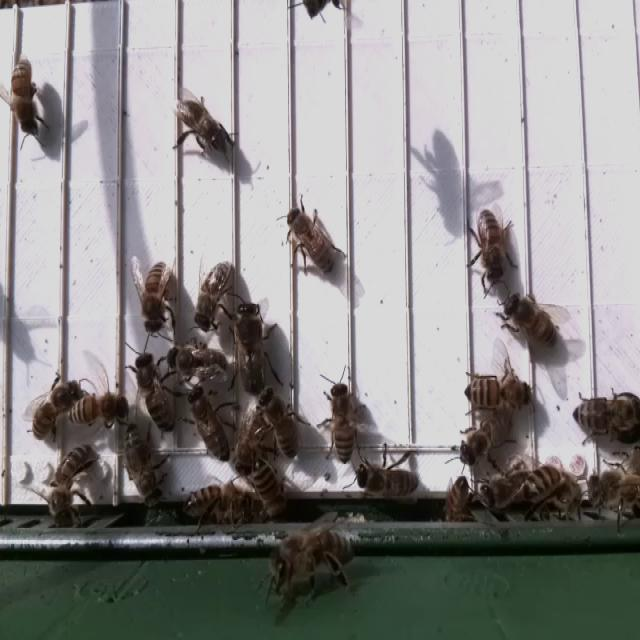Drone: (233, 299, 268, 399)
Worker: (282, 202, 339, 280), (45, 439, 95, 521), (186, 383, 233, 465), (132, 347, 174, 436), (501, 292, 562, 353), (170, 94, 230, 156), (29, 376, 82, 442), (460, 367, 536, 413), (258, 387, 305, 459), (191, 257, 234, 335), (354, 459, 421, 505), (325, 377, 359, 467), (138, 258, 176, 338), (570, 394, 639, 438), (474, 204, 509, 289), (8, 54, 42, 140), (250, 455, 289, 524), (170, 340, 234, 382), (67, 393, 131, 428)
